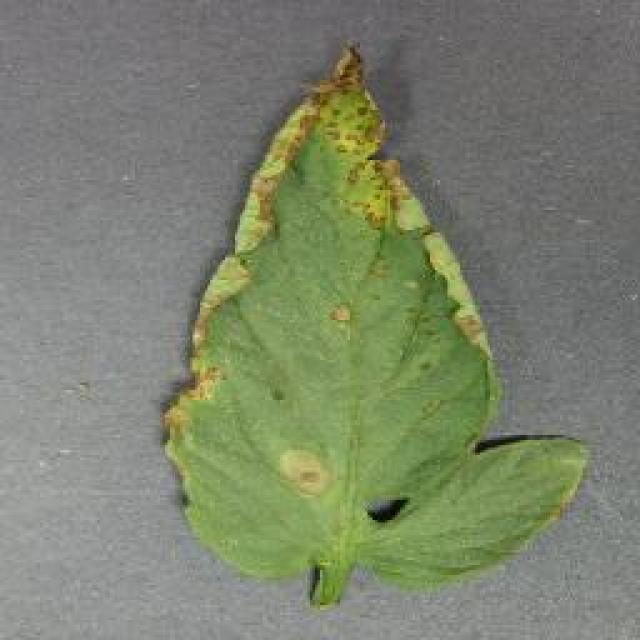Tomato bacterial spot leaf: (146, 32, 598, 612)
